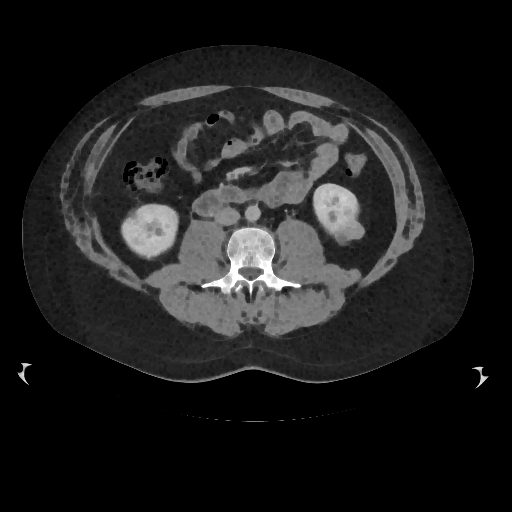Lesion: (336, 218, 367, 242)
